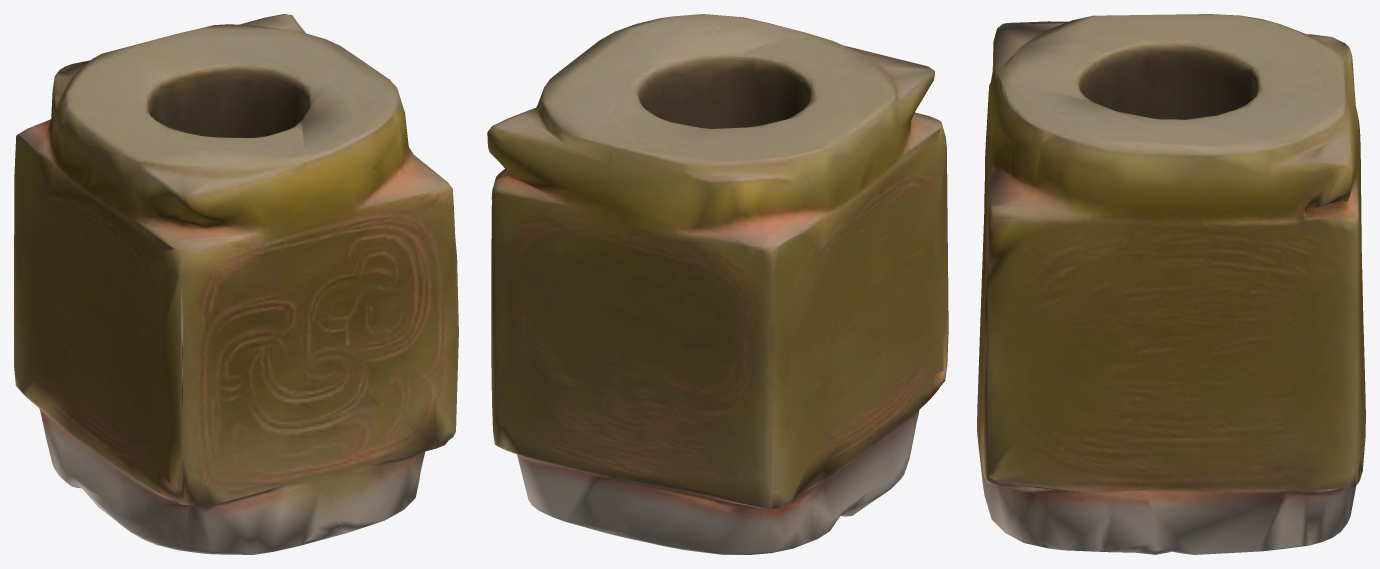
The model's file is zhangjiapo-bird-overview.glb.
3 views of the same model, side by side, from view 1: azimuth 30°, elevation 25°; view 2: azimuth 150°, elevation 25°; view 3: azimuth 270°, elevation 25° (orthographic). The views are drawn at different scales.
Parts seen in each view (by area): view 1: node_0; view 2: node_0; view 3: node_0.
Part boxes in pixels (<box>): node_0: <box>14,14,458,554</box>; node_0: <box>487,14,948,554</box>; node_0: <box>977,14,1365,554</box>.
Bounding box in the file's own units: 0.671 × 0.8435 × 0.7232.
1 material, 1 textured.
